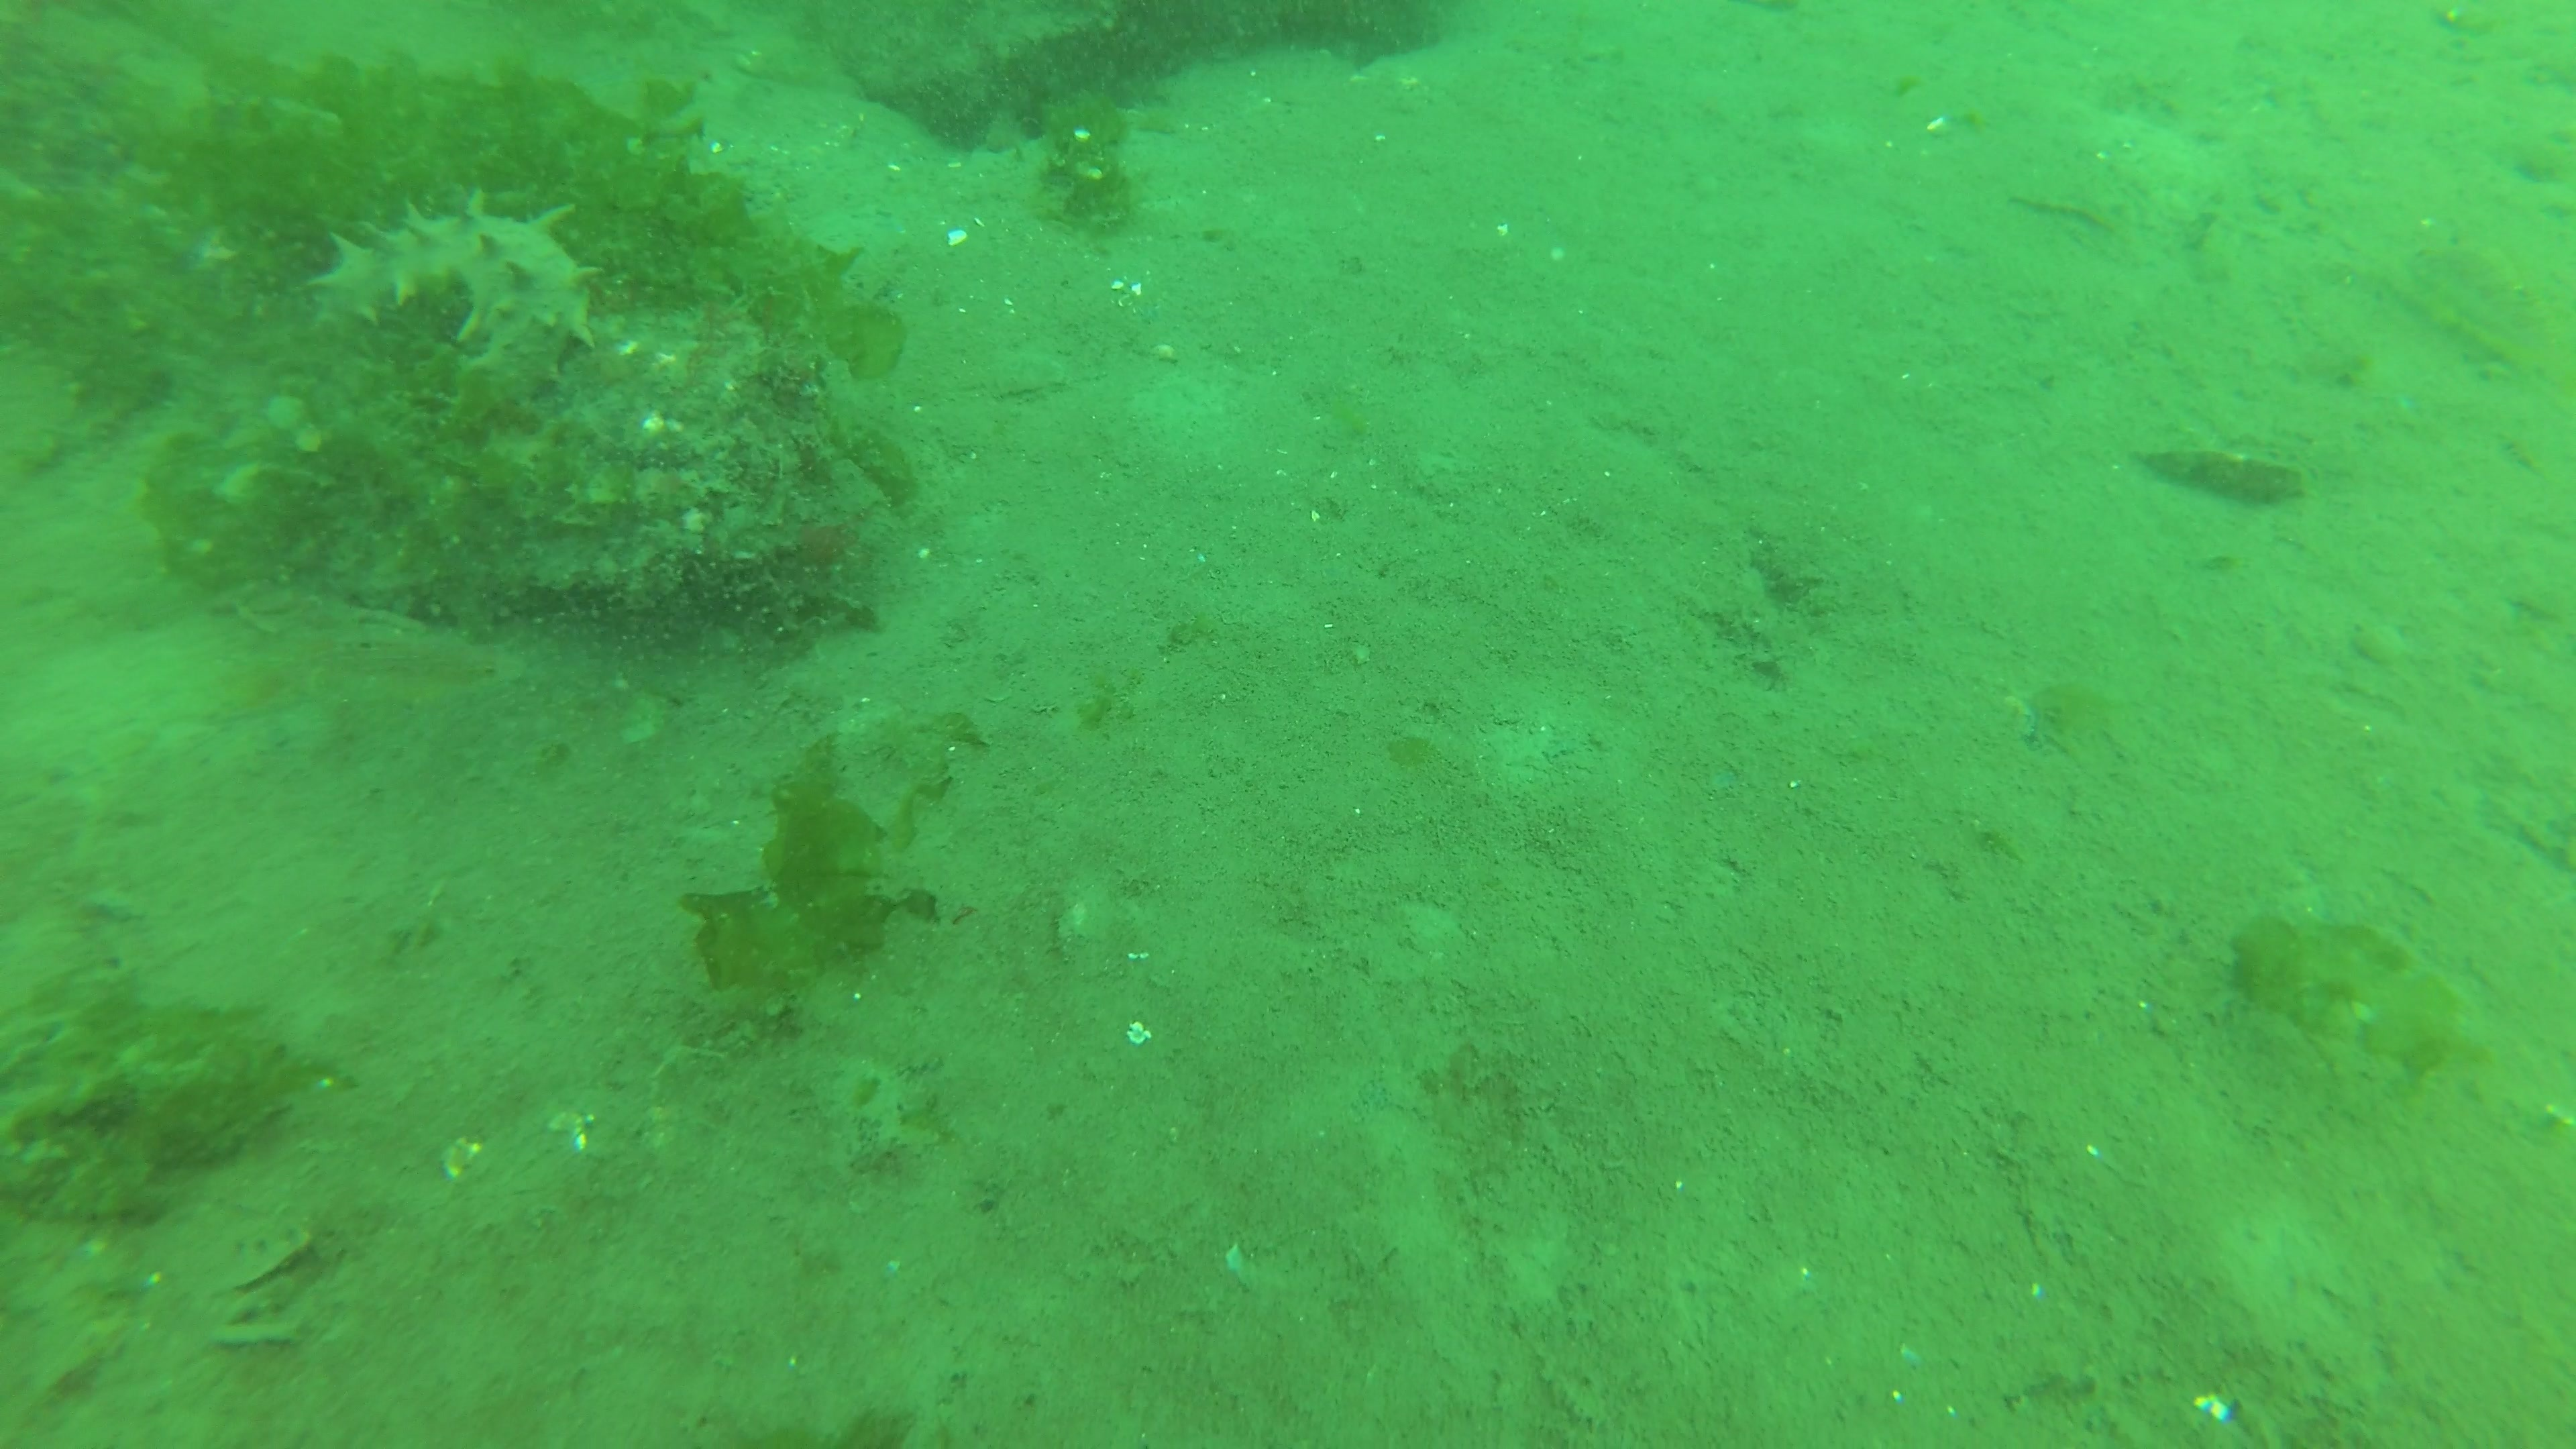holothurian: (306, 184, 607, 416)
